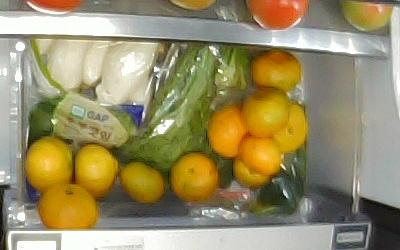tangerine: (38, 184, 96, 229), (24, 137, 71, 192), (170, 152, 218, 203), (241, 87, 290, 136), (251, 48, 302, 92), (74, 143, 117, 192), (208, 106, 249, 157), (119, 161, 165, 204), (271, 99, 307, 152), (240, 132, 282, 172), (233, 156, 271, 187)
